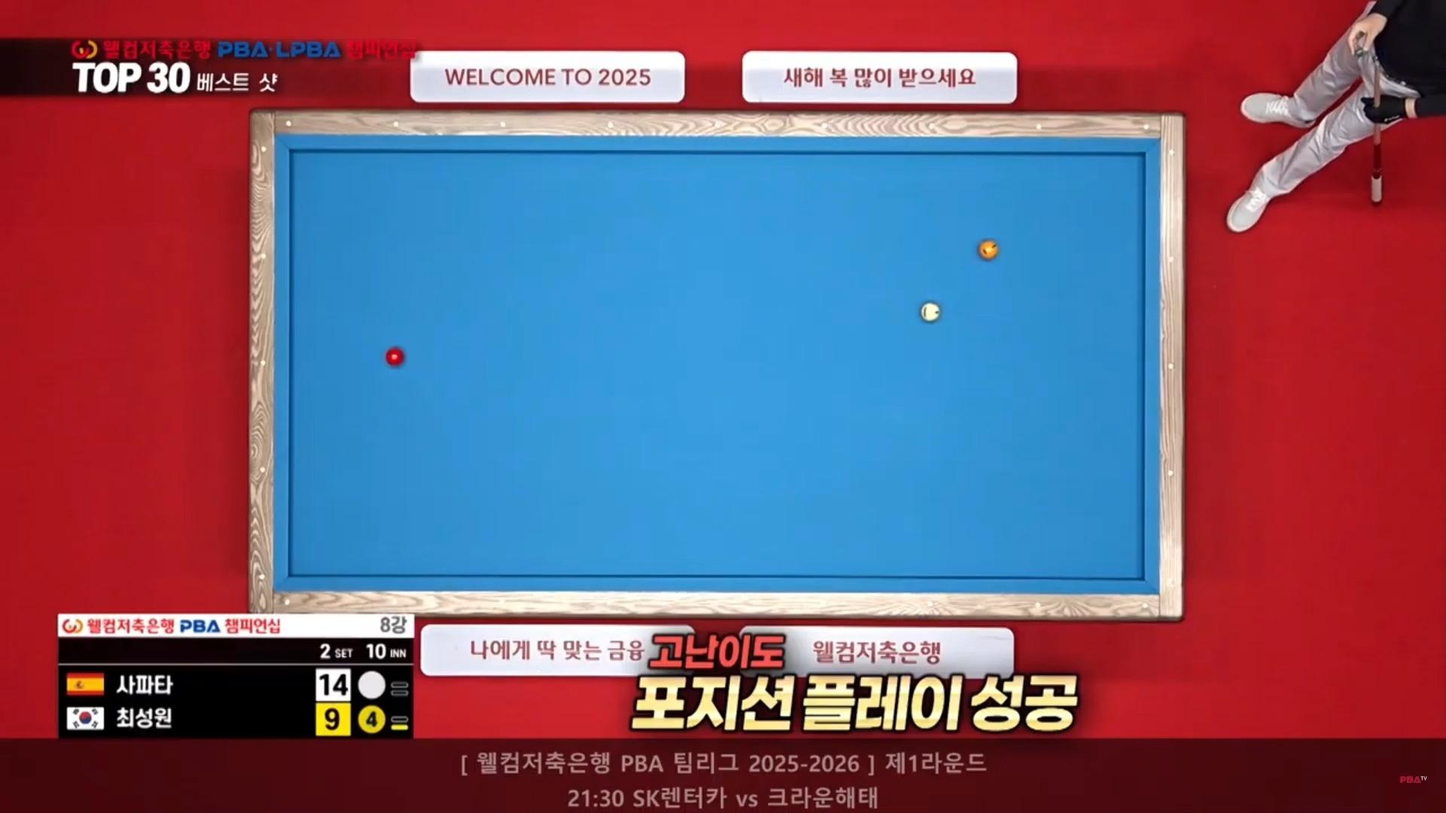Red: (385, 348, 408, 367)
White: (921, 303, 945, 323)
Yellow: (975, 239, 999, 259)
